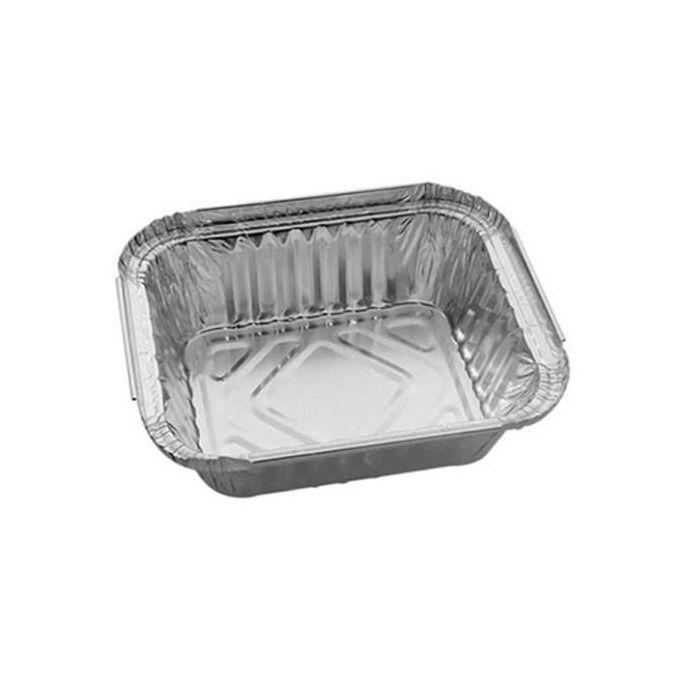metal: (116, 180, 572, 499)
